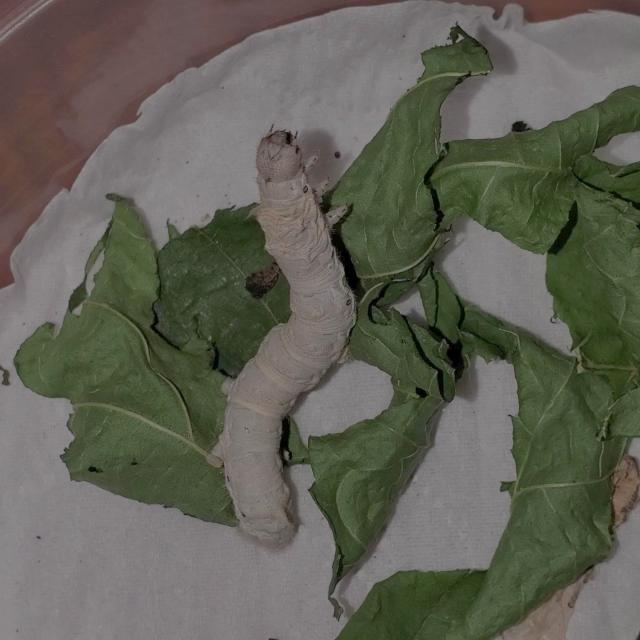Healthy: (193, 102, 395, 574)
